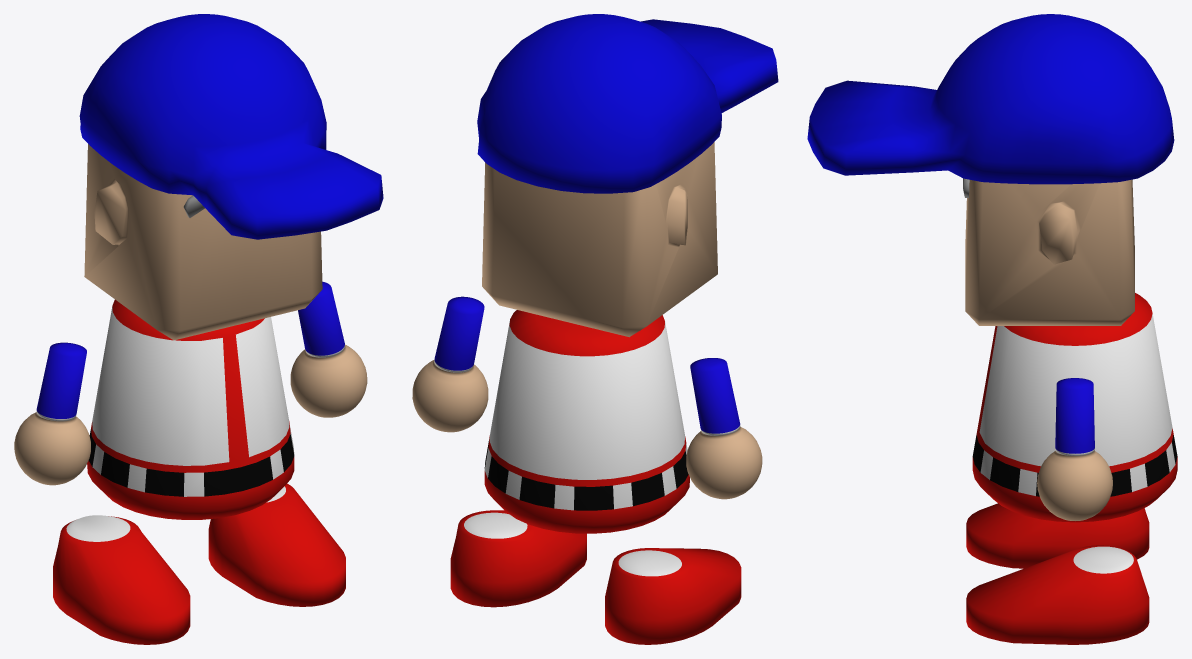
The model's file is Manager.fbx.
The picture shows the model from 3 angles, left to right: view 1: azimuth 30°, elevation 25°; view 2: azimuth 150°, elevation 25°; view 3: azimuth 270°, elevation 25°; orthographic projection.
Visible parts, largest first — view 1: Cylinder, Cylinder.001; view 2: Cylinder, Cylinder.001; view 3: Cylinder.001, Cylinder.
Part boxes in pixels (left/top/right/bottom): Cylinder: left=14, top=281, right=367, bottom=644; Cylinder.001: left=79, top=14, right=383, bottom=340; Cylinder: left=412, top=296, right=762, bottom=644; Cylinder.001: left=477, top=14, right=778, bottom=337; Cylinder.001: left=807, top=14, right=1174, bottom=325; Cylinder: left=966, top=293, right=1177, bottom=644.
Bounding box in the file's own units: 579 × 914 × 549.
